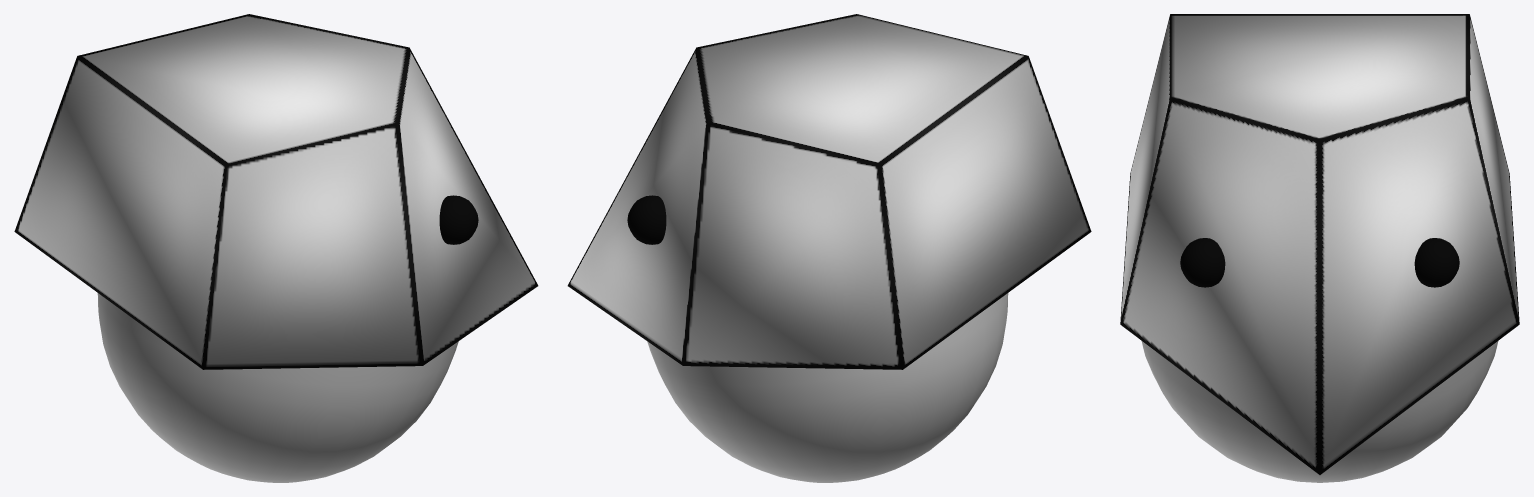
Rendered from PseudoBot01.dae.
The picture shows the model from 3 angles, left to right: view 1: azimuth 30°, elevation 25°; view 2: azimuth 150°, elevation 25°; view 3: azimuth 270°, elevation 25°; orthographic projection.
Visible parts, largest first — view 1: Head, Jaw, RightEye; view 2: Head, Jaw, LeftEye; view 3: Head, Jaw, LeftEye, RightEye.
Boxes of the visible parts, x1,y1,x2,y2 form: Head: (14, 14, 538, 369); Jaw: (97, 293, 458, 482); RightEye: (439, 195, 478, 244); Head: (567, 14, 1091, 369); Jaw: (647, 293, 1008, 482); LeftEye: (627, 195, 666, 244); Head: (1120, 14, 1519, 474); Jaw: (1141, 341, 1498, 482); LeftEye: (1414, 238, 1459, 287); RightEye: (1180, 238, 1225, 287).
Bounding box in the file's own units: 100 × 80 × 86.06.
